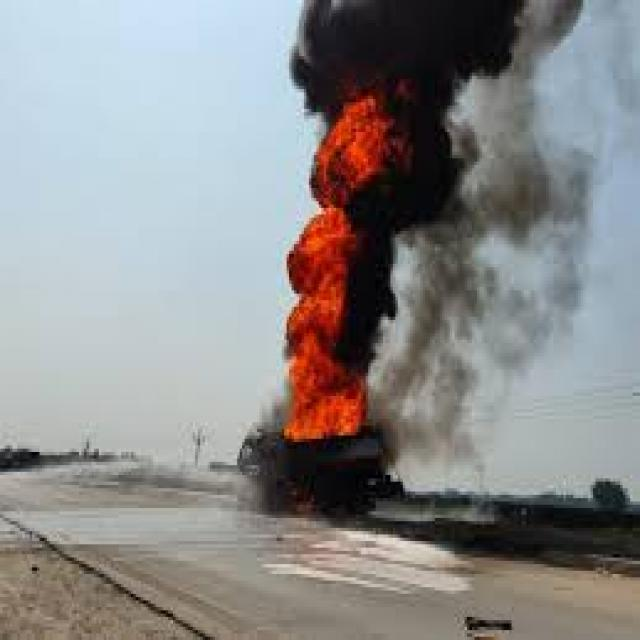fire: (277, 132, 356, 435)
smoke: (373, 3, 623, 456), (282, 4, 590, 116), (338, 178, 459, 366)
